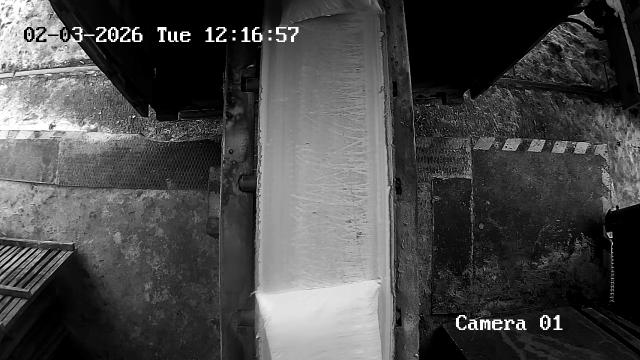bag: (256, 276, 382, 360)
